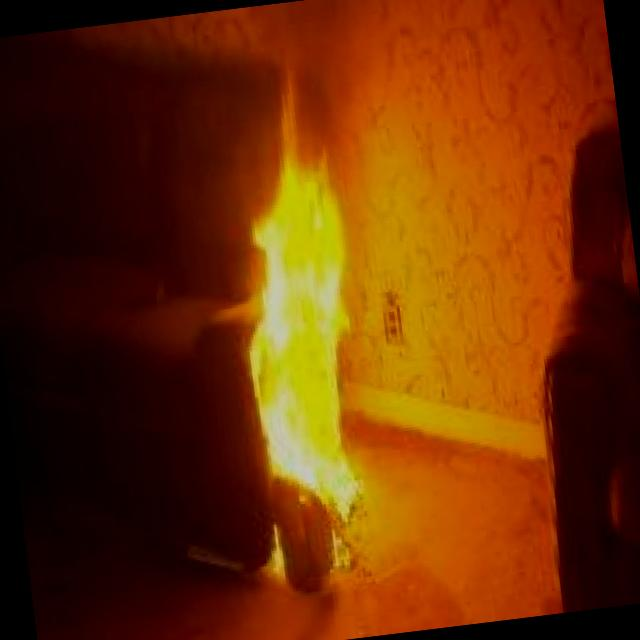fire: (189, 146, 393, 535)
